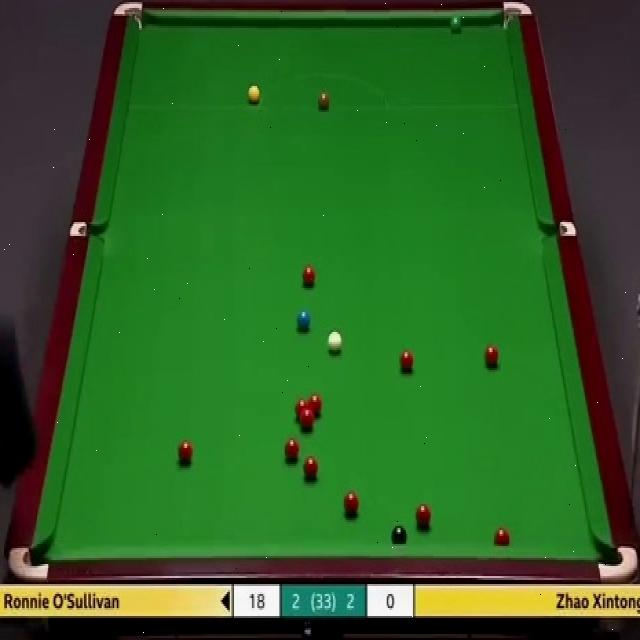black-ball: (392, 523, 408, 545)
blue-ball: (296, 308, 312, 329)
brown-ball: (318, 88, 330, 108)
green-ball: (450, 11, 463, 30)
red-ball: (303, 451, 320, 480), (177, 440, 194, 469), (302, 264, 320, 291), (398, 346, 415, 373), (344, 489, 360, 517), (415, 504, 432, 530), (281, 439, 301, 461), (484, 344, 498, 369), (294, 398, 308, 422), (309, 393, 322, 418), (493, 526, 511, 543), (300, 411, 316, 430)
white-ball: (327, 332, 343, 353)
yellow-ball: (247, 86, 259, 102)
